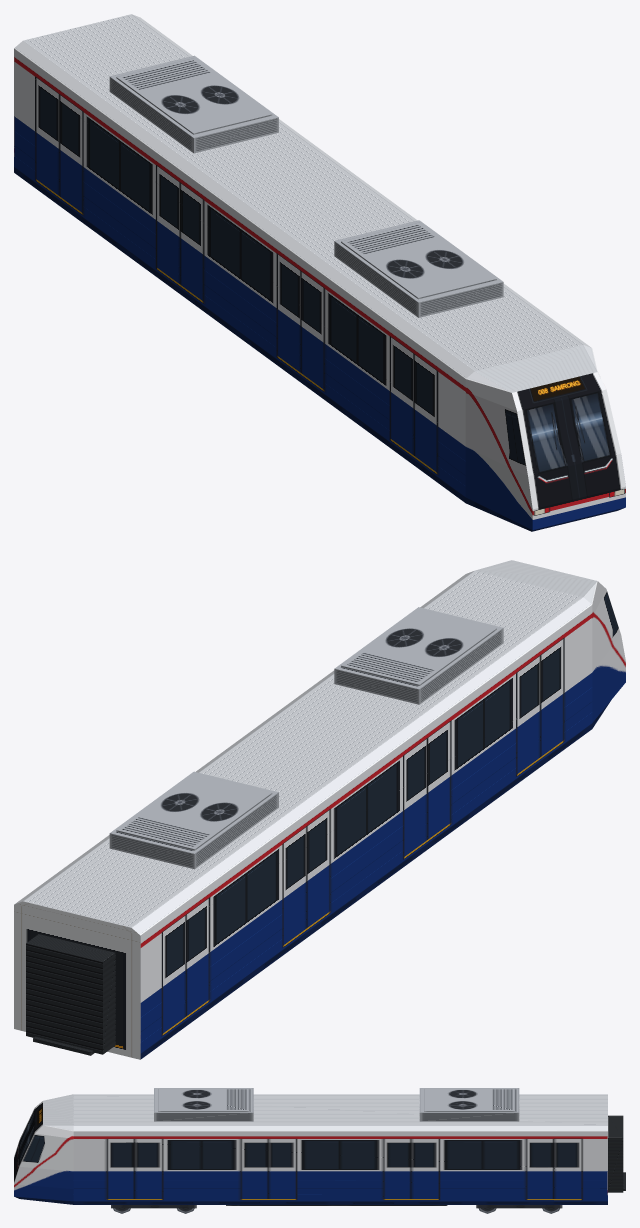
File: BTS_Train_Cab.glb
The picture shows the model from 3 angles, top to bottom: view 1: azimuth 30°, elevation 25°; view 2: azimuth 150°, elevation 25°; view 3: azimuth 270°, elevation 25°; orthographic projection. The views are drawn at different scales.
Visible parts, largest first — view 1: BTS_Train_Cab; view 2: BTS_Train_Cab; view 3: BTS_Train_Cab.
Part boxes in pixels (bbox=[...]): BTS_Train_Cab: bbox=[14, 14, 625, 531]; BTS_Train_Cab: bbox=[14, 560, 625, 1059]; BTS_Train_Cab: bbox=[14, 1088, 625, 1213].
Size of the model in its own units: 3.12 by 4.19 by 22.1.
Materials: 1 (1 with a texture image).
